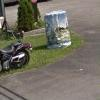Motorcycle: (1, 36, 34, 72)
